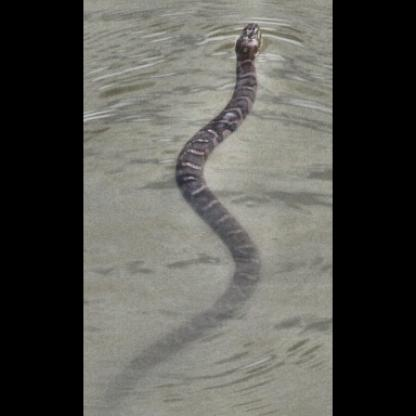Snake: (162, 18, 272, 375)
